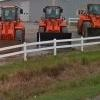Tractor: (36, 3, 100, 42)
